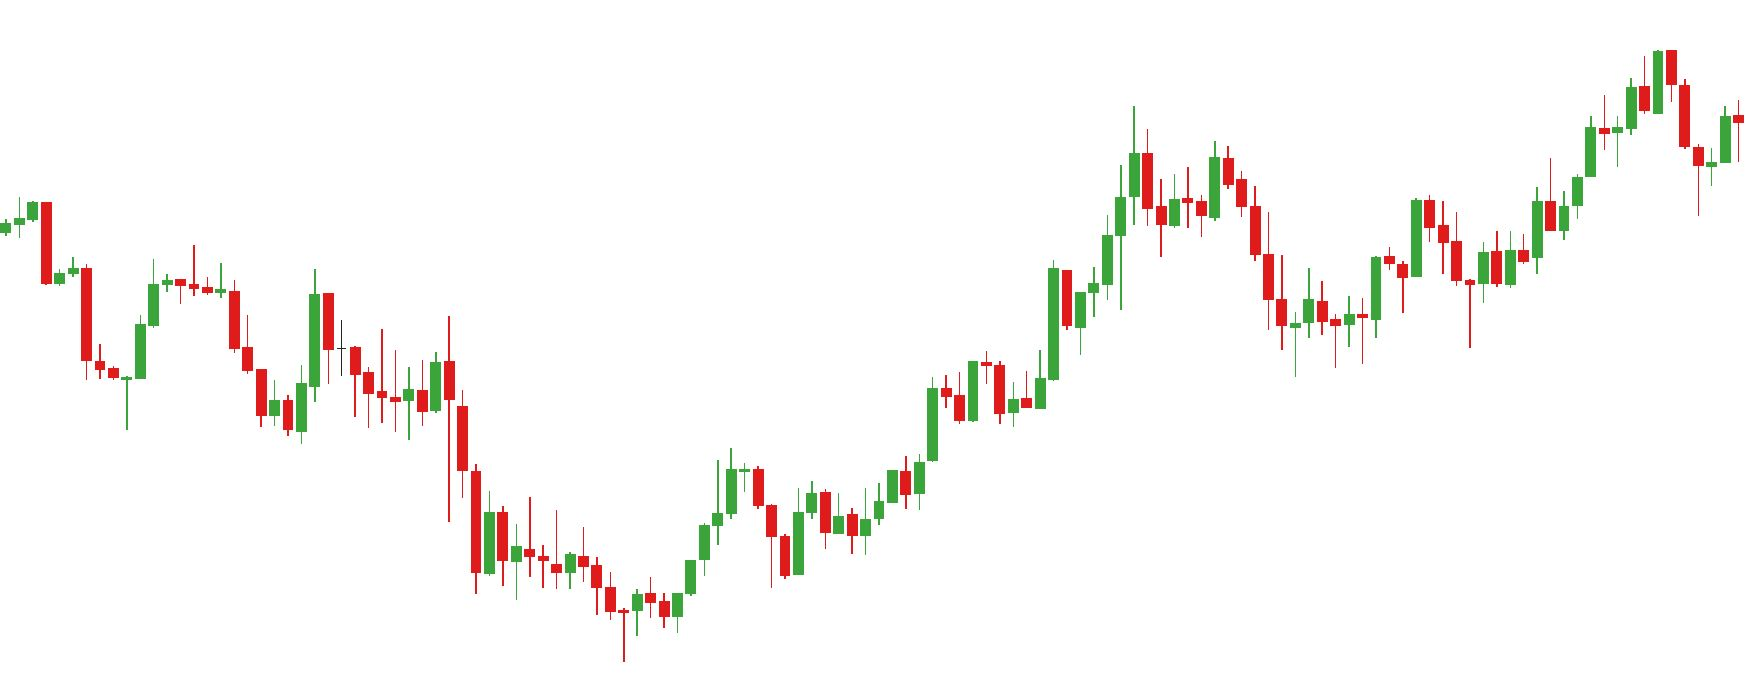buy: (1071, 225, 1304, 381), (1396, 218, 1477, 358)
